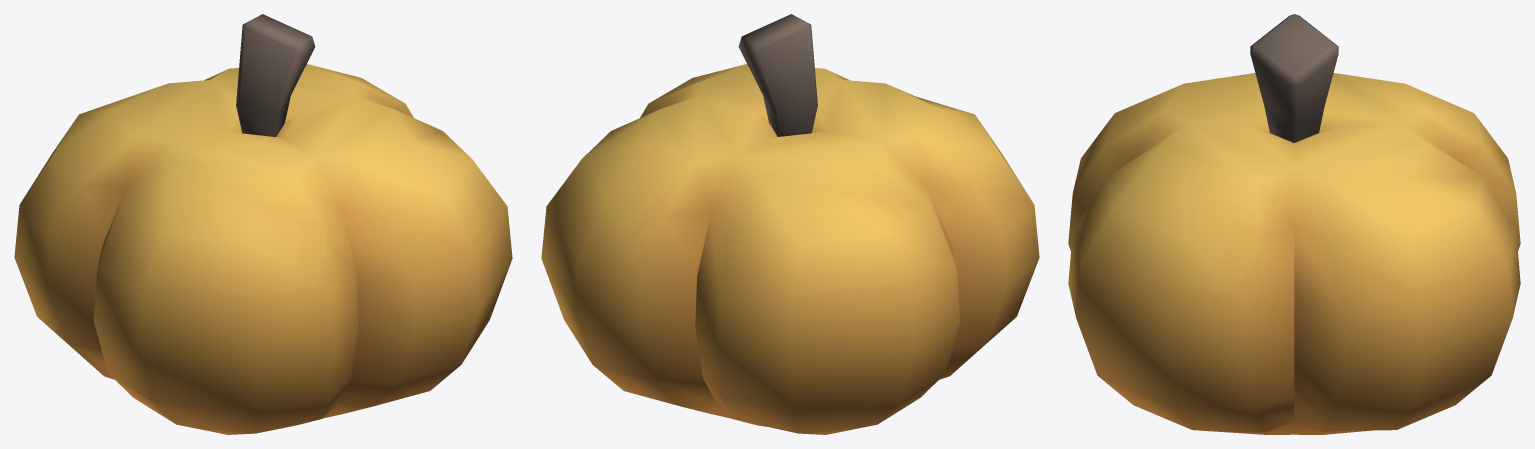
Rendered from pumpkin_yellow_small.glb.
3 renders of one model, left to right at view 1: azimuth 30°, elevation 25°; view 2: azimuth 150°, elevation 25°; view 3: azimuth 270°, elevation 25°, orthographic.
Visible parts, largest first — view 1: pumpkin_yellow_small; view 2: pumpkin_yellow_small; view 3: pumpkin_yellow_small.
Boxes of the visible parts, <box> form: pumpkin_yellow_small: <box>14,14,512,434</box>; pumpkin_yellow_small: <box>541,14,1039,434</box>; pumpkin_yellow_small: <box>1068,14,1520,434</box>.
Size of the model in its own units: 0.6 by 0.55 by 0.6.
1 material, 1 textured.
